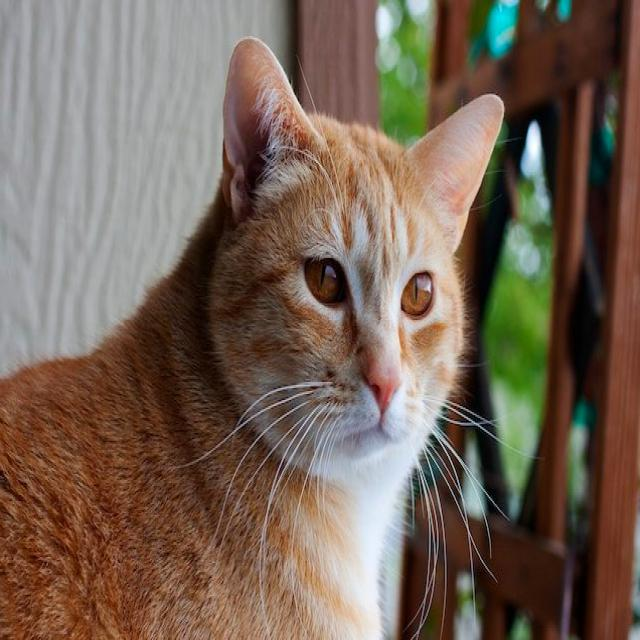cat: (1, 38, 504, 638)
